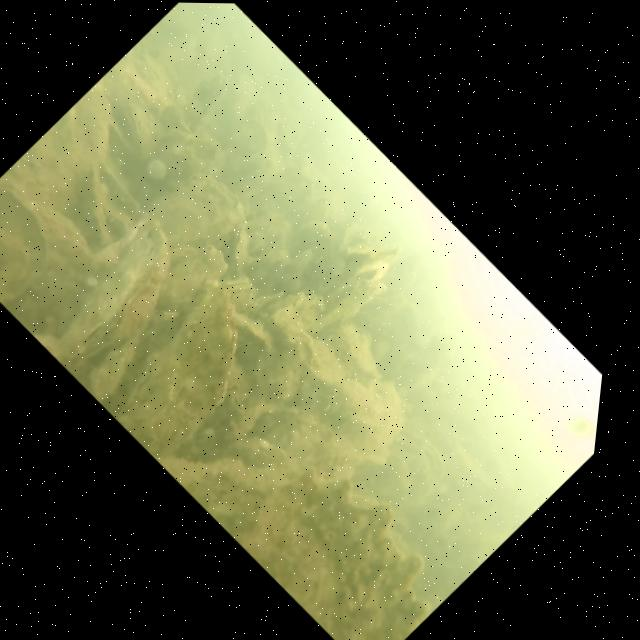Oyster-Closed: (84, 272, 291, 467), (25, 213, 206, 385), (119, 154, 260, 284), (223, 383, 363, 510), (183, 376, 267, 456), (252, 274, 336, 353), (314, 315, 397, 390), (215, 306, 279, 363), (208, 221, 270, 278), (235, 235, 295, 291), (265, 242, 321, 296), (233, 206, 284, 255), (212, 266, 262, 313), (245, 278, 292, 322)
Oyster-Indeterminate: (137, 364, 486, 640), (0, 192, 113, 334), (121, 109, 235, 215), (0, 174, 76, 307), (139, 234, 234, 324)
Oyster-Open: (347, 424, 458, 527), (303, 237, 410, 340), (70, 326, 171, 419), (96, 94, 172, 163), (167, 66, 240, 135)
